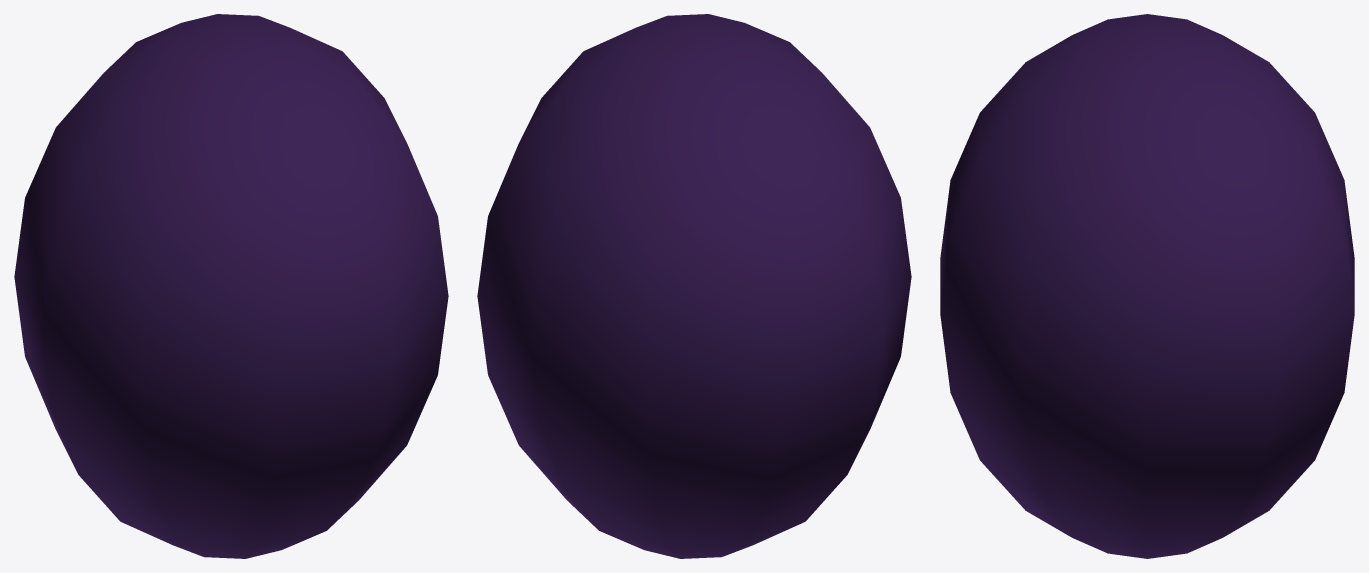
Rendered from obsidauro_stage2.obj.
3 views of the same model, side by side, from view 1: azimuth 30°, elevation 25°; view 2: azimuth 150°, elevation 25°; view 3: azimuth 270°, elevation 25° (orthographic).
Size of the model in its own units: 2 by 2.6 by 1.9.
